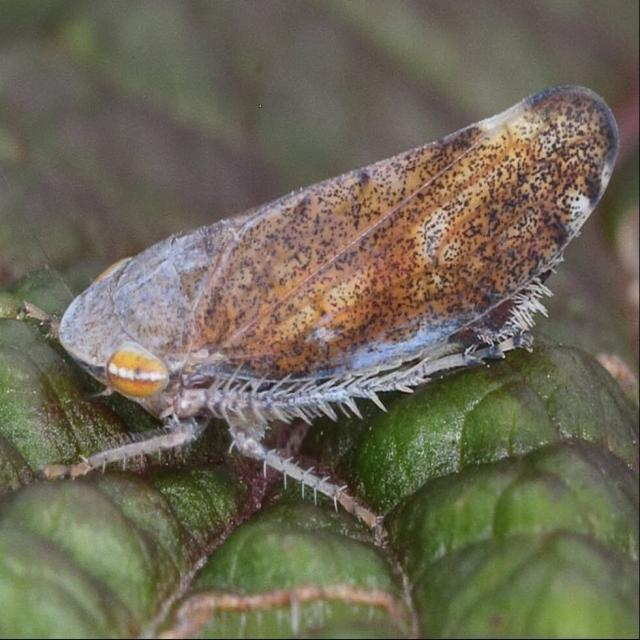Yechan: (69, 73, 618, 479)
